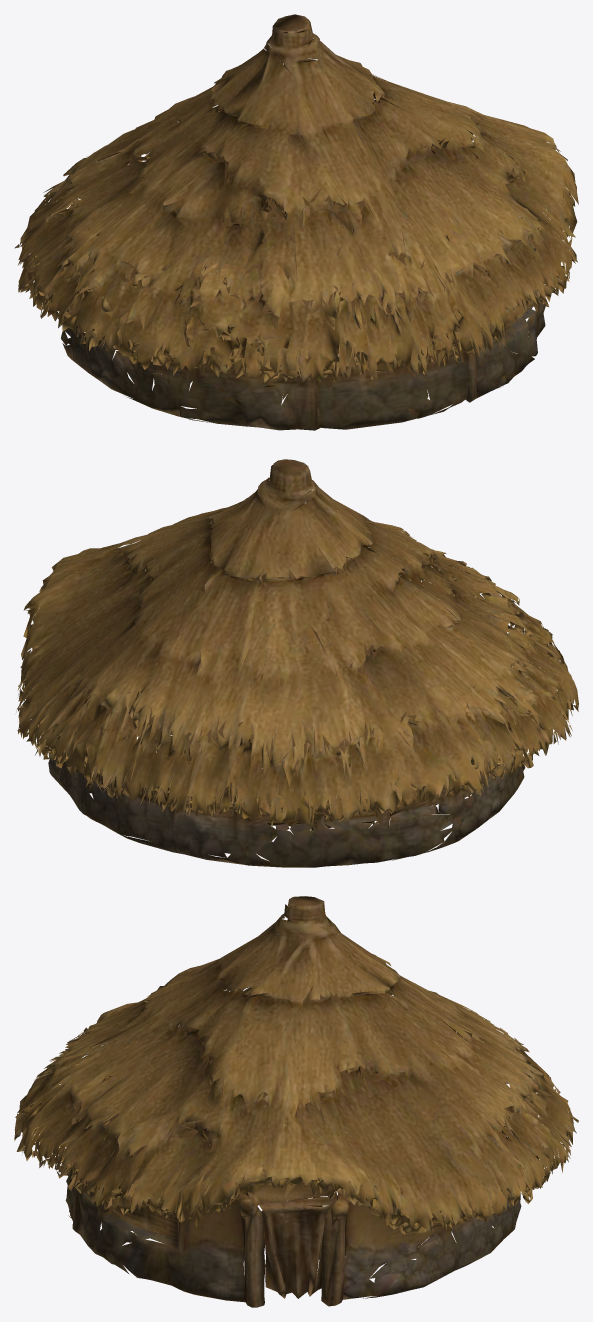
The model's file is house_mid.glb.
3 renders of one model, top to bottom at view 1: azimuth 30°, elevation 25°; view 2: azimuth 150°, elevation 25°; view 3: azimuth 270°, elevation 25°, orthographic. The views are drawn at different scales.
Parts seen in each view (by area): view 1: model; view 2: model; view 3: model.
Boxes of the visible parts, bbox=[...] form: model: bbox=[14, 14, 578, 430]; model: bbox=[16, 459, 578, 867]; model: bbox=[14, 896, 578, 1307].
Size of the model in its own units: 0.9784 by 0.5861 by 0.9906.
Materials: 1 (1 with a texture image).
